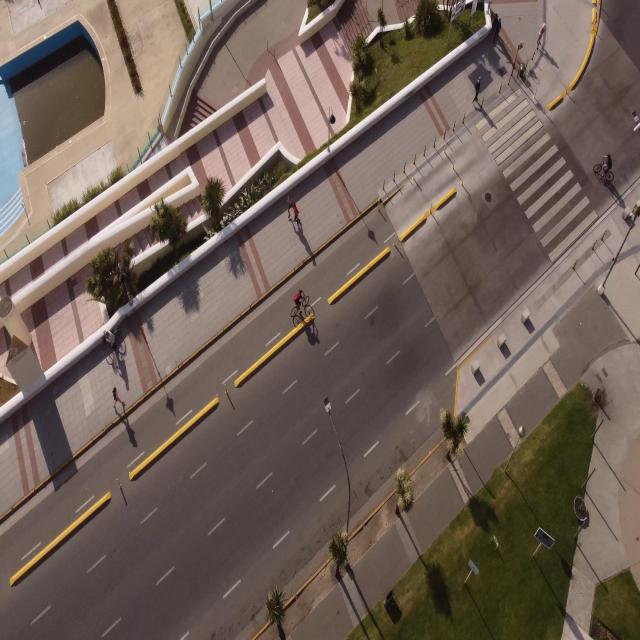Cycle: (590, 143, 622, 191), (284, 284, 317, 327)
